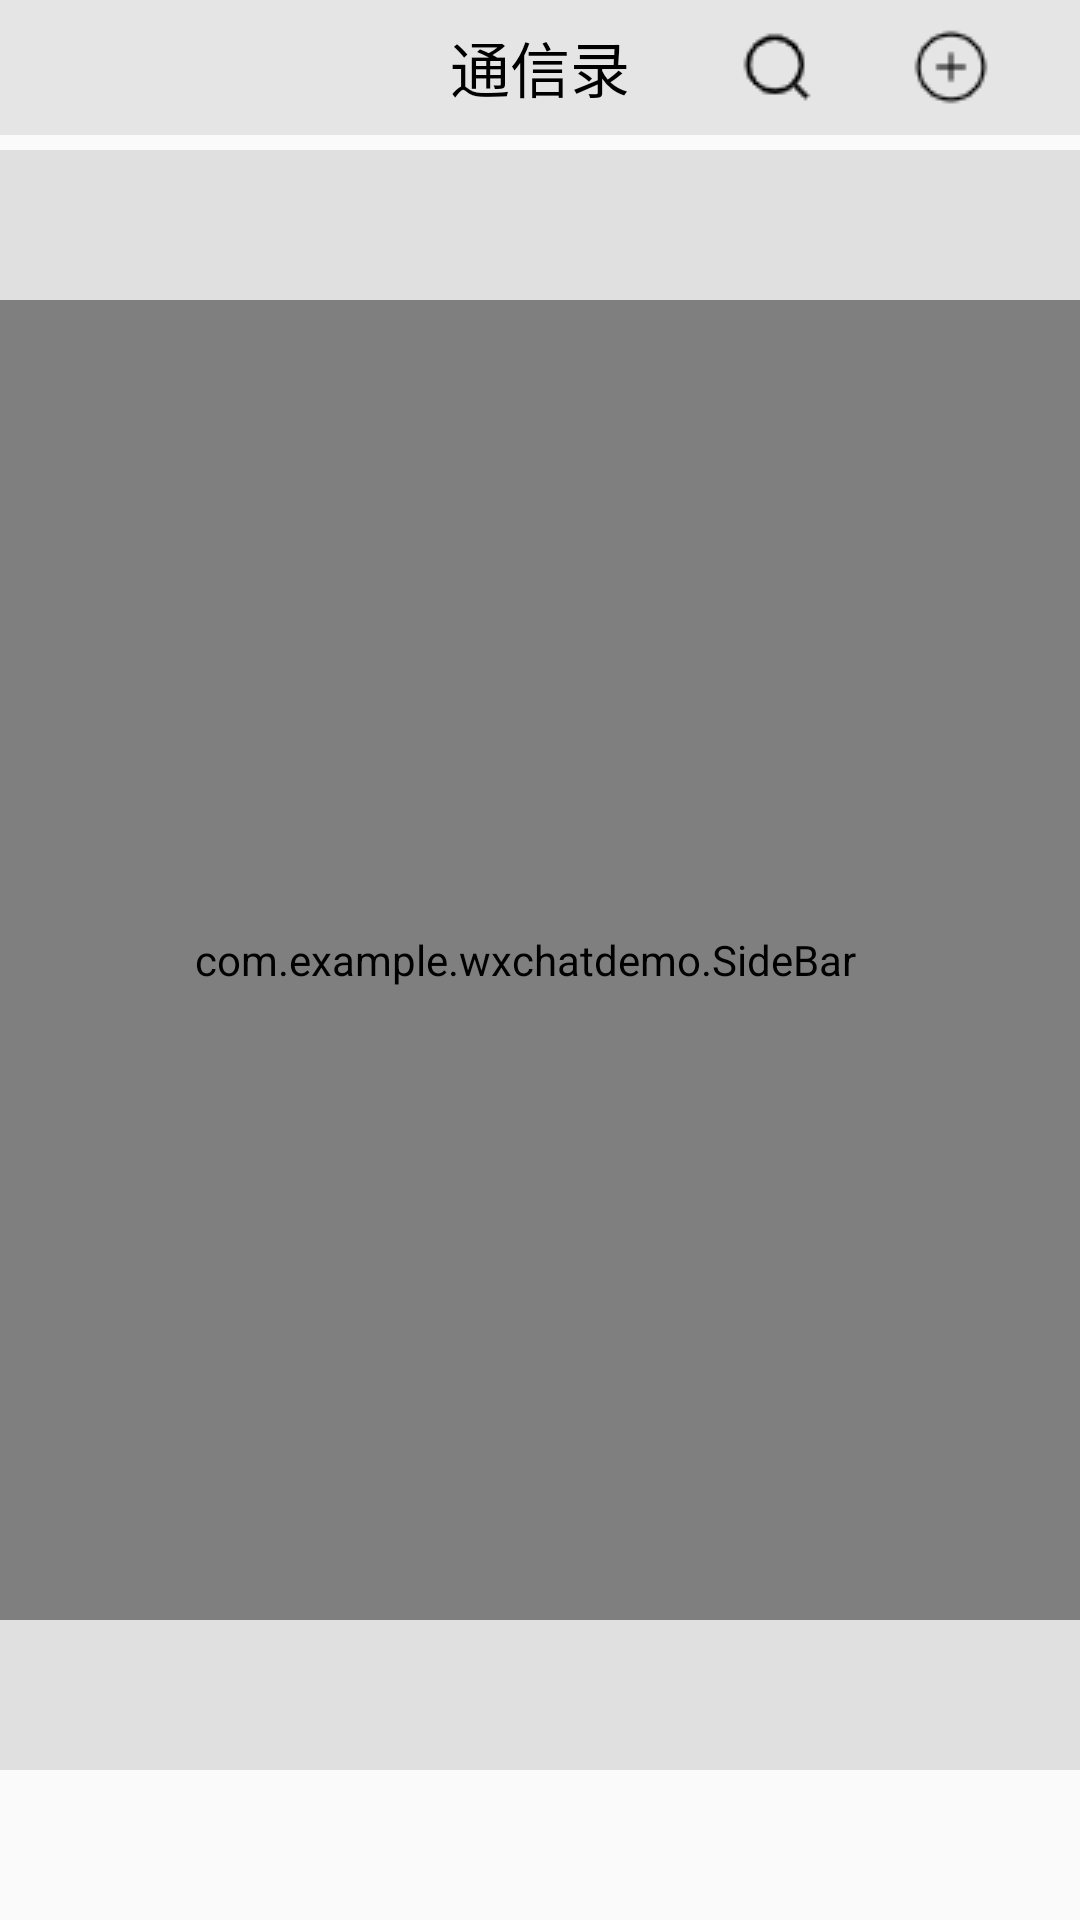

Point at icon controls on the screen. Image size 1080px×1920px, points as (x=x, y=y).
plus: (x=951, y=67)
search: (x=777, y=67)
